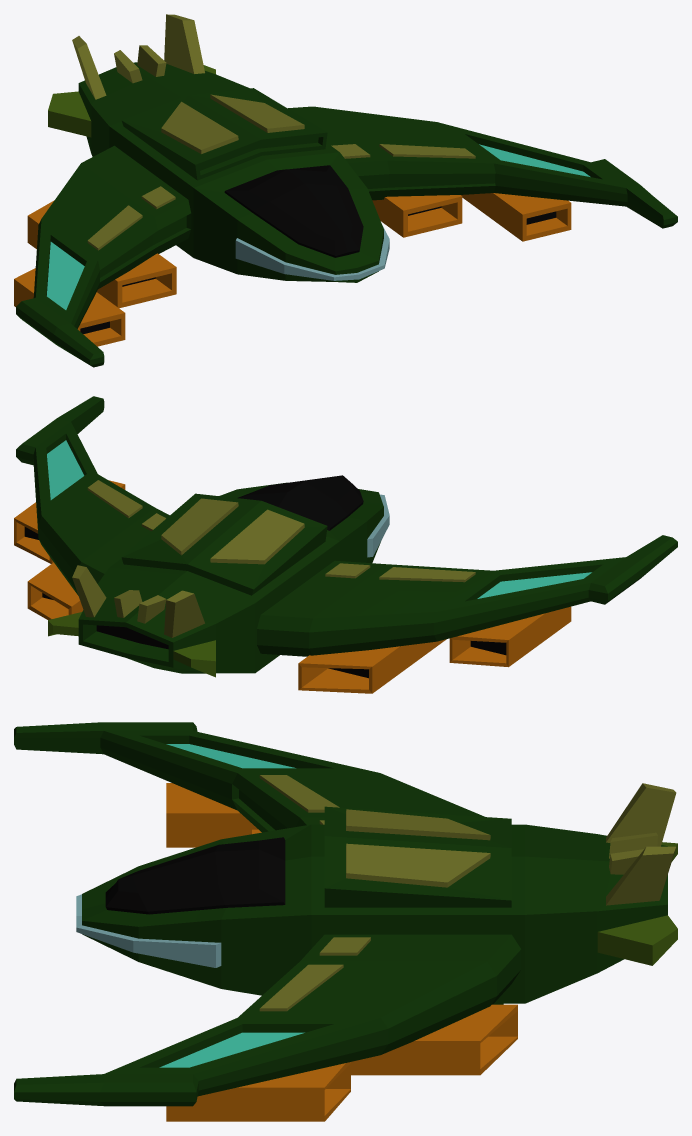
The model's file is Scout.glb.
3 renders of one model, top to bottom at view 1: azimuth 30°, elevation 25°; view 2: azimuth 150°, elevation 25°; view 3: azimuth 270°, elevation 25°, orthographic. The views are drawn at different scales.
Visible parts, largest first — view 1: Ship3; view 2: Ship3; view 3: Ship3.
Part boxes in pixels (x1,y1,x2,y2): Ship3: (14, 14, 677, 367); Ship3: (14, 396, 677, 693); Ship3: (14, 722, 677, 1121).
Bounding box in the file's own units: 8.1 × 1.75 × 6.21.
Materials: 1 (1 with a texture image).
